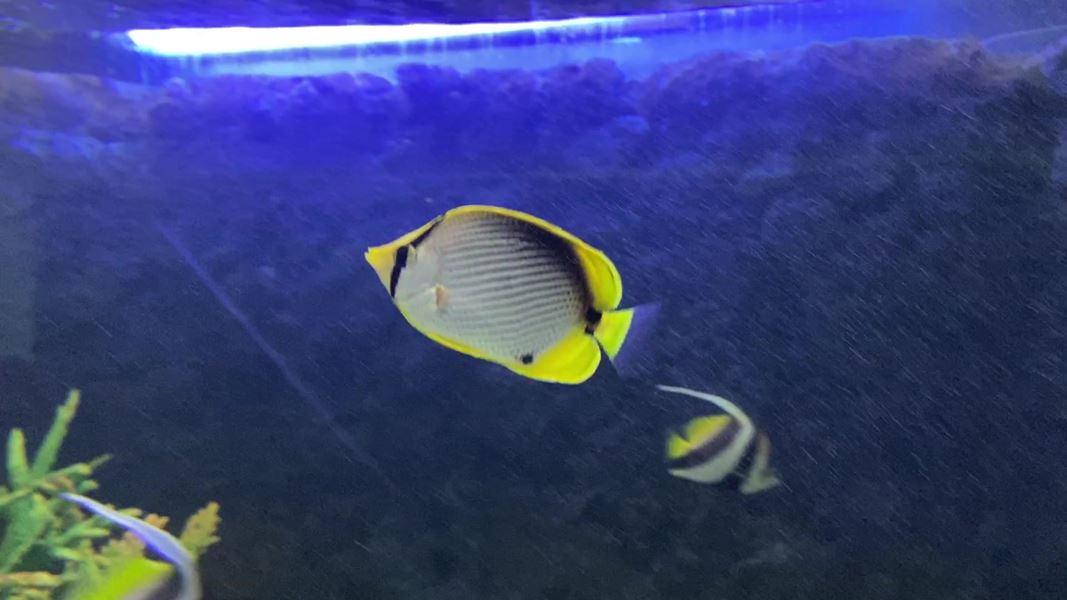Black-backed butterflyfish: (354, 194, 680, 402)
